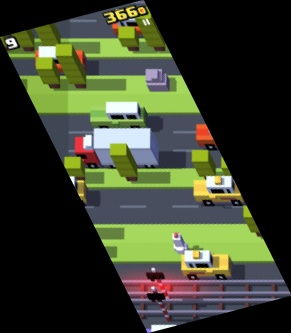car: (193, 174, 252, 206), (90, 101, 148, 131), (181, 250, 234, 280), (112, 10, 166, 37), (196, 120, 236, 150), (54, 176, 87, 205)
duck: (169, 234, 189, 255)
light off: (146, 286, 175, 322)
light on: (146, 269, 174, 301)
rail: (120, 276, 291, 298), (125, 295, 282, 314)
rock: (146, 68, 169, 92)
tree: (136, 9, 169, 53), (55, 46, 87, 89), (33, 12, 60, 52), (110, 144, 138, 181), (243, 204, 268, 238), (190, 150, 216, 180), (36, 59, 61, 89), (11, 20, 35, 51), (221, 153, 242, 182), (63, 156, 86, 180), (118, 28, 139, 51)
truck: (73, 129, 159, 168)
